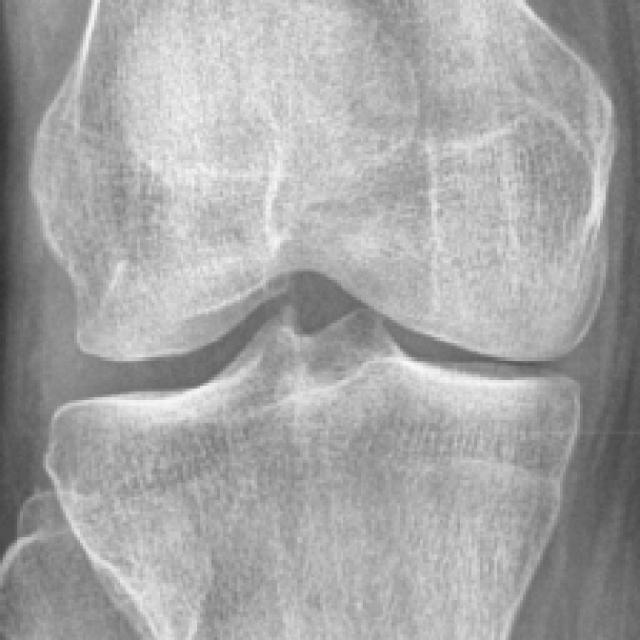femur: (30, 0, 618, 361)
tibia: (46, 311, 582, 640)
